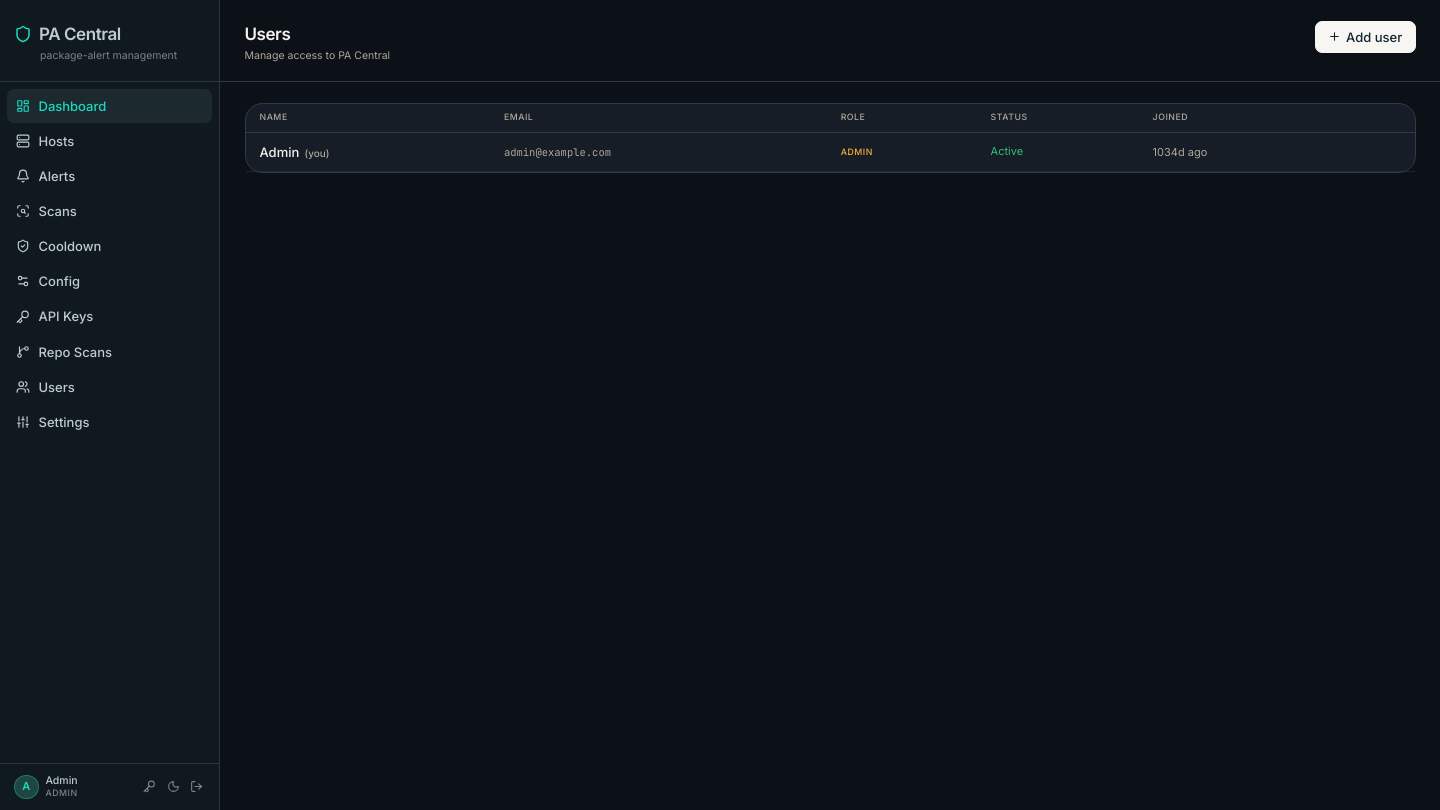
Test: Add user — self-service enabled › offers no password field, explaining the invite instead
Click the button "Add user": click(1365, 37) [1315,21,1416,52]
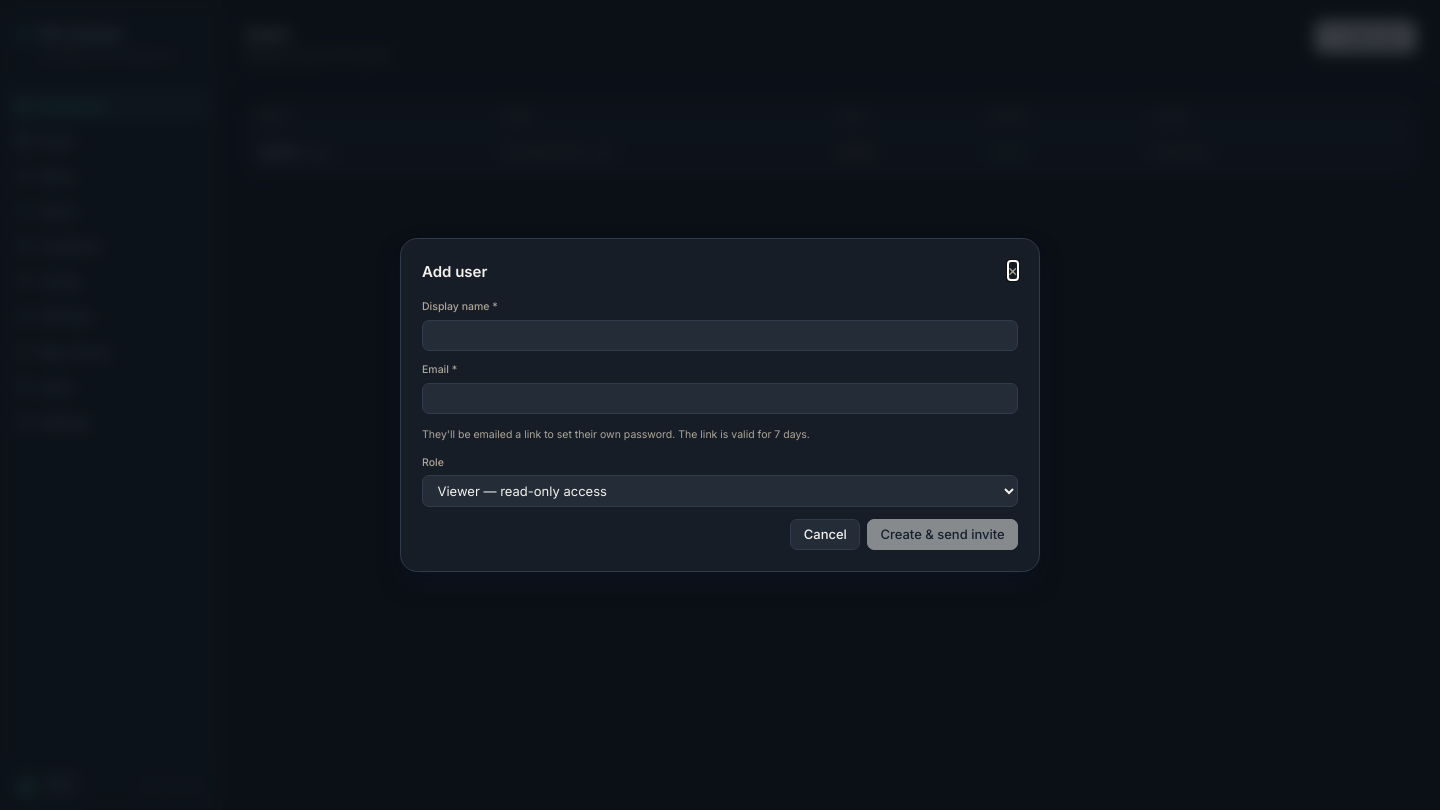
Now the text "link to set their own password" is shown, box [422,428,810,442]
